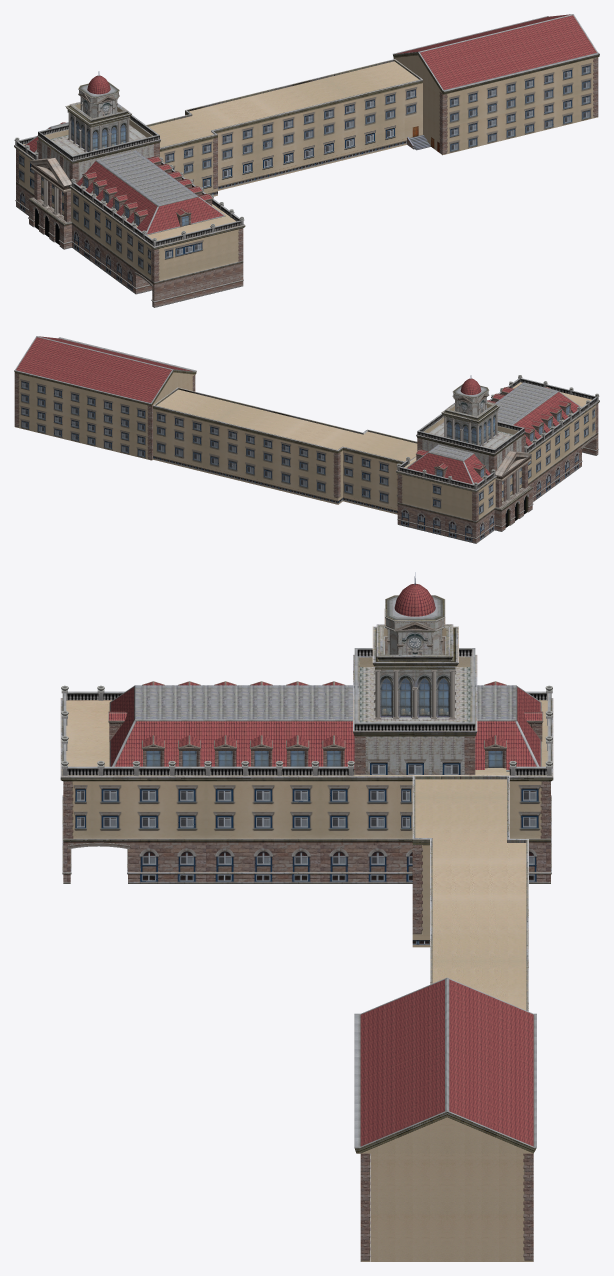
Rendered from tianguanwei.obj.
3 renders of one model, top to bottom at view 1: azimuth 30°, elevation 25°; view 2: azimuth 150°, elevation 25°; view 3: azimuth 270°, elevation 25°, orthographic. The views are drawn at different scales.
Parts seen in each view (by area): view 1: TGW_wall01, TGW_ting01; view 2: TGW_wall01, TGW_ting01; view 3: TGW_wall01, TGW_ting01.
Part boxes in pixels (bbox=[...]): TGW_wall01: bbox=[14, 52, 599, 307]; TGW_ting01: bbox=[14, 14, 599, 282]; TGW_wall01: bbox=[14, 369, 599, 543]; TGW_ting01: bbox=[14, 336, 599, 520]; TGW_wall01: bbox=[60, 595, 553, 1261]; TGW_ting01: bbox=[61, 572, 552, 1261].
Bounding box in the file's own units: 12430 × 3432 × 5606.
Materials: 2 (2 with a texture image).
